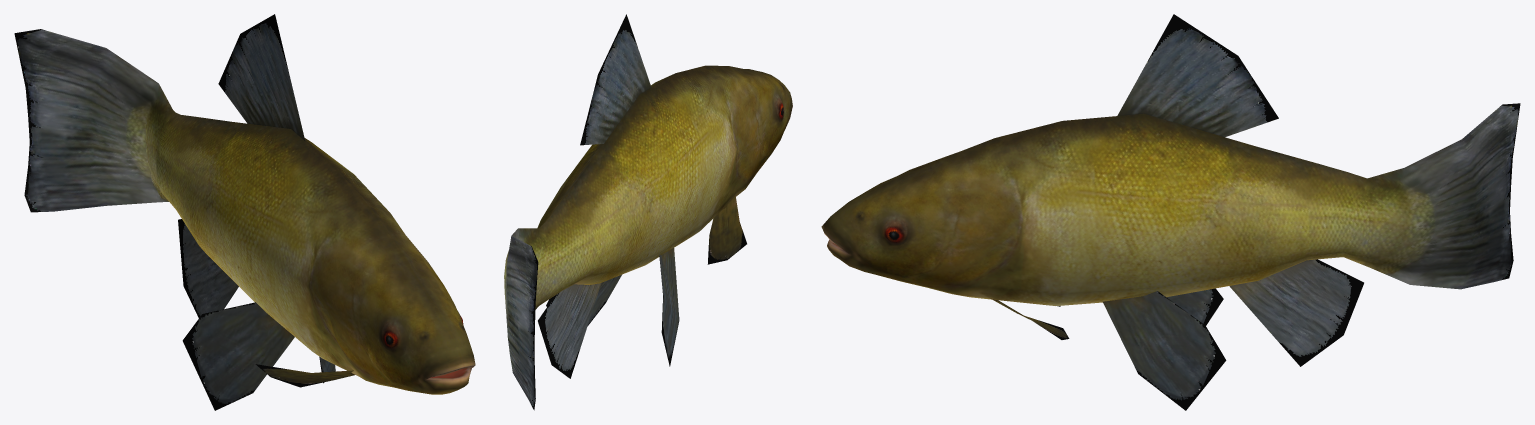
File: peixinho1.glb
The picture shows the model from 3 angles, left to right: view 1: azimuth 30°, elevation 25°; view 2: azimuth 150°, elevation 25°; view 3: azimuth 270°, elevation 25°; orthographic projection. The views are drawn at different scales.
Visible parts, largest first — view 1: Tench; view 2: Tench; view 3: Tench.
Part boxes in pixels (x1,y1,x2,y2): Tench: [14, 14, 475, 410]; Tench: [504, 14, 792, 410]; Tench: [821, 14, 1520, 410].
Size of the model in its own units: 0.0541 by 0.1233 by 0.2103.
Materials: 1 (1 with a texture image).
